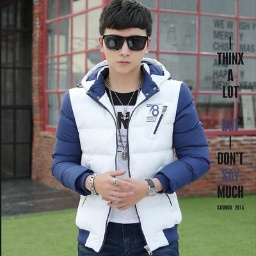face: (95, 2, 153, 74)
